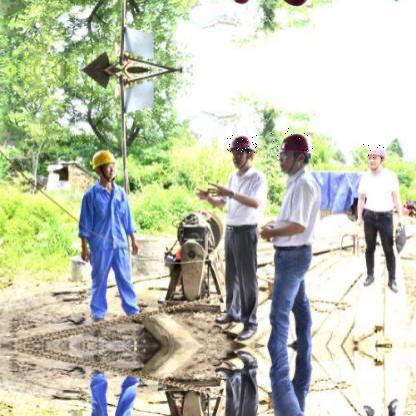safetyhelmet: (271, 126, 315, 158), (226, 134, 258, 154), (89, 150, 115, 171), (360, 142, 385, 160)
